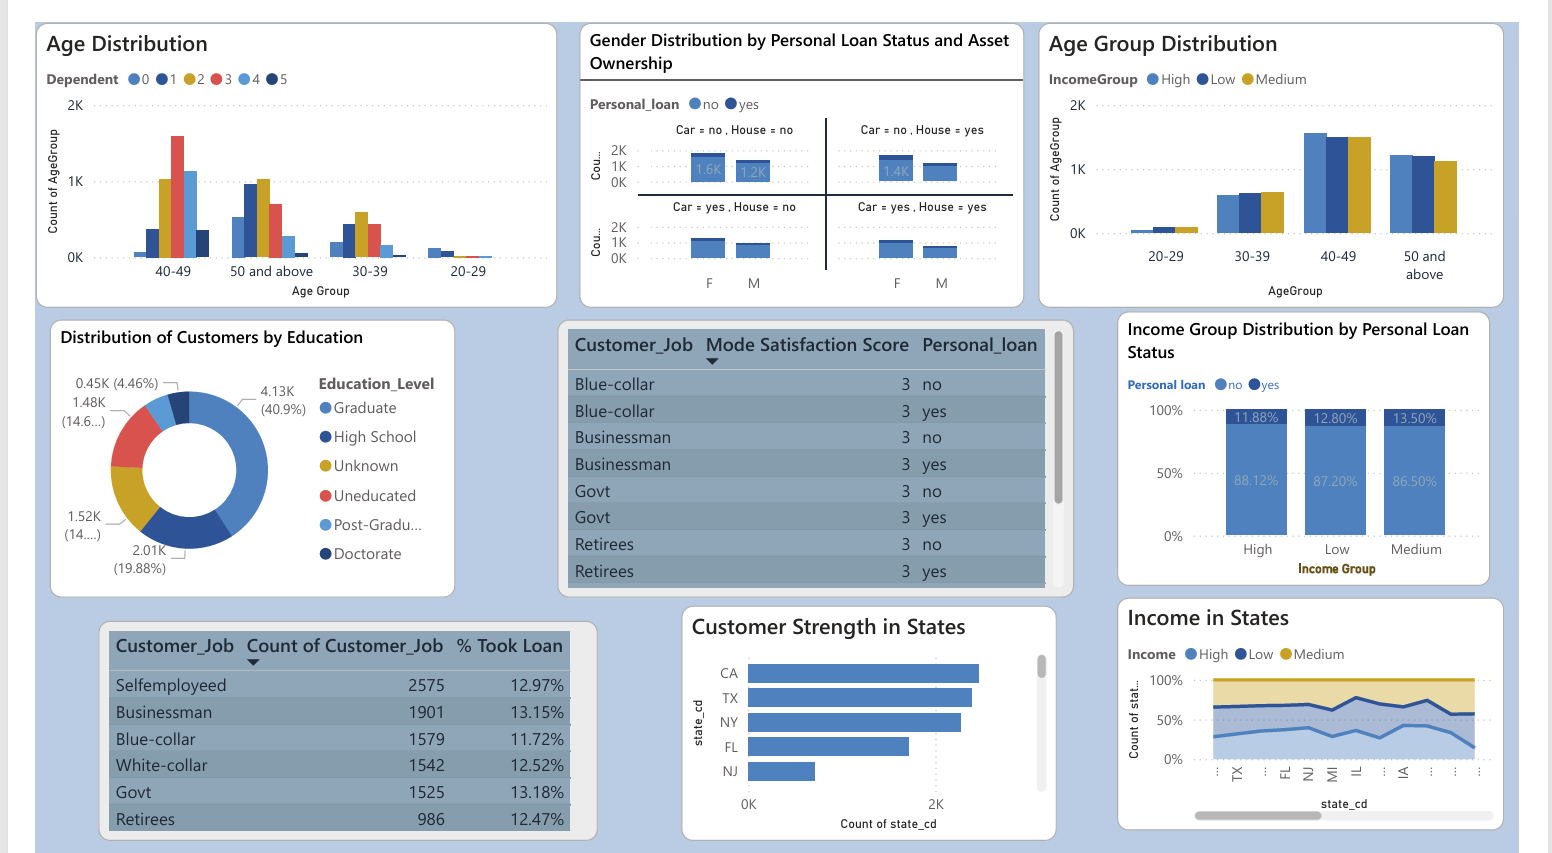

This screenshot's page, from the dashboard's own definition file:
{"tool":"powerbi","page":{"name":"Customer_Analysis","canvas":[1280,720],"ordinal":0},"visuals":[{"type":"donutChart","title":"Distribution of Customers by Education","fields":{"Category":["customer.Education_Level"],"Y":["CountNonNull(customer.Education_Level)"]},"box":[12.1,255.8,349.9,240.1],"z":1000},{"type":"columnChart","title":"Gender Distribution by Personal Loan Status and Asset Ownership","fields":{"Category":["customer.Gender"],"Y":["CountNonNull(customer.Gender)"],"Series":["customer.Personal_loan"],"Rows":["customer.Owner"]},"box":[469.3,0,383.6,246.1],"z":2000},{"type":"hundredPercentStackedColumnChart","title":"Income Group Distribution by Personal Loan Status","fields":{"Category":["customer.IncomeGroup"],"Y":["CountNonNull(customer.IncomeGroup)"],"Series":["customer.Personal_loan"]},"box":[932.6,248.5,322.1,237.7],"z":4000},{"type":"clusteredColumnChart","title":"Age Group Distribution","fields":{"Category":["customer.AgeGroup"],"Y":["CountNonNull(customer.AgeGroup)"],"Series":["customer.IncomeGroup"]},"box":[865,0,401.7,246.1],"z":5000},{"type":"tableEx","fields":{"Values":["customer.Customer_Job","credit_card.Mode Satisfaction Score","customer.Personal_loan"]},"box":[450,255.8,446.4,240.1],"z":6000},{"type":"tableEx","fields":{"Values":["customer.Customer_Job","CountNonNull(customer.Customer_Job)","customer.% Took Loan"]},"box":[54.3,516.4,430.7,189.4],"z":8000},{"type":"hundredPercentStackedAreaChart","title":"Income in States","fields":{"Category":["customer.state_cd"],"Y":["CountNonNull(customer.state_cd)"],"Series":["customer.IncomeGroup"]},"box":[932.6,495.8,334.2,201.5],"z":9000},{"type":"clusteredColumnChart","title":"Age Distribution","fields":{"Category":["customer.AgeGroup"],"Y":["CountNonNull(customer.AgeGroup)"],"Series":["customer.Dependent_Count"]},"box":[0,0,450,246.1],"z":10000},{"type":"barChart","title":"Customer Strength in States","fields":{"Category":["customer.state_cd"],"Y":["CountNonNull(customer.state_cd)"]},"box":[557.4,503.1,323.3,202.7],"z":11000}]}

Visuals, with their boxes in screenshot pixels (x1, y1, x2, y2), scaled from the page's 1280x720 canvas onto the 1552x853 screenshot:
"Distribution of Customers by Education" donutChart: crop(15, 303, 439, 588)
"Gender Distribution by Personal Loan Status and Asset Ownership" columnChart: crop(569, 0, 1034, 292)
"Income Group Distribution by Personal Loan Status" hundredPercentStackedColumnChart: crop(1131, 294, 1521, 576)
"Age Group Distribution" clusteredColumnChart: crop(1049, 0, 1536, 292)
tableEx - customer.Customer_Job x credit_card.Mode Satisfaction Score: crop(546, 303, 1087, 588)
tableEx - customer.Customer_Job x CountNonNull(customer.Customer_Job): crop(66, 612, 588, 836)
"Income in States" hundredPercentStackedAreaChart: crop(1131, 587, 1536, 826)
"Age Distribution" clusteredColumnChart: crop(0, 0, 546, 292)
"Customer Strength in States" barChart: crop(676, 596, 1068, 836)
